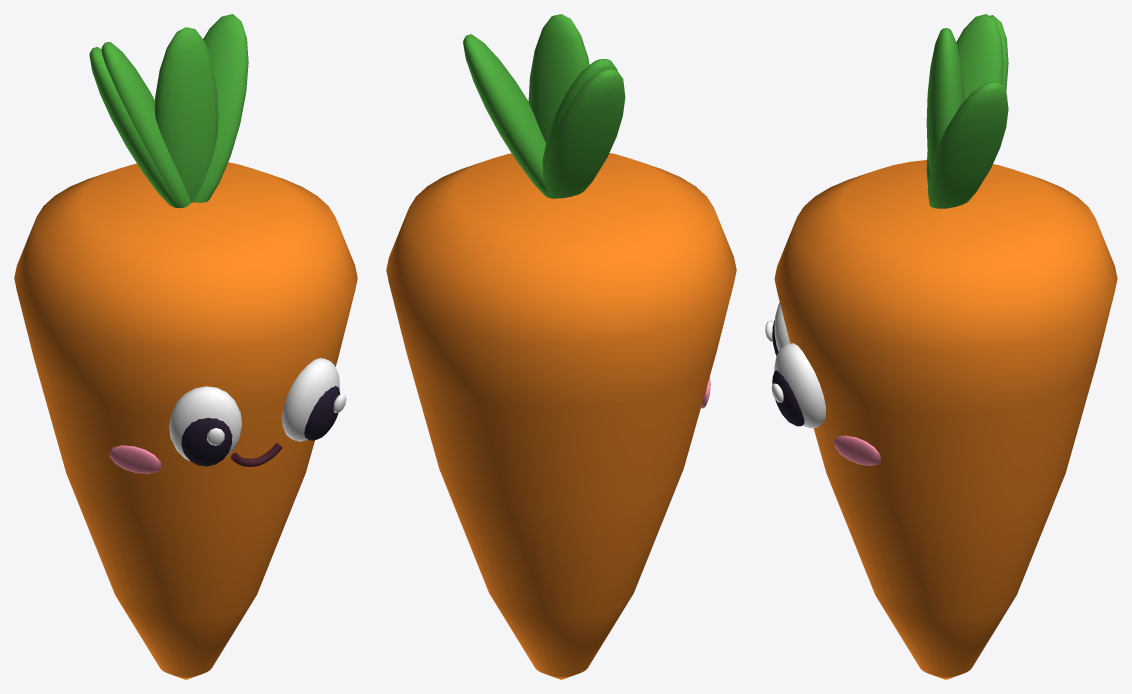
The model's file is Carrot.fbx.
The picture shows the model from 3 angles, left to right: view 1: azimuth 30°, elevation 25°; view 2: azimuth 150°, elevation 25°; view 3: azimuth 270°, elevation 25°; orthographic projection. The views are drawn at different scales.
Parts seen in each view (by area): view 1: Body_FF8A1F, Leaves_4CAF3A, Eyes_FFFFFF, Pupils_241B2F, Blush_FF8FAB; view 2: Body_FF8A1F, Leaves_4CAF3A; view 3: Body_FF8A1F, Leaves_4CAF3A, Eyes_FFFFFF, Blush_FF8FAB, Pupils_241B2F.
Part boxes in pixels (left/top/right/bottom): Body_FF8A1F: left=14, top=162, right=357, bottom=679; Leaves_4CAF3A: left=89, top=14, right=248, bottom=208; Eyes_FFFFFF: left=169, top=358, right=339, bottom=460; Pupils_241B2F: left=181, top=386, right=340, bottom=466; Blush_FF8FAB: left=109, top=445, right=161, bottom=473; Body_FF8A1F: left=386, top=153, right=736, bottom=679; Leaves_4CAF3A: left=463, top=14, right=625, bottom=198; Body_FF8A1F: left=774, top=160, right=1117, bottom=679; Leaves_4CAF3A: left=926, top=14, right=1008, bottom=208; Eyes_FFFFFF: left=774, top=302, right=825, bottom=428; Blush_FF8FAB: left=833, top=435, right=880, bottom=465; Pupils_241B2F: left=772, top=320, right=804, bottom=426.
Size of the model in its own units: 1.24 by 2.6 by 1.27.
